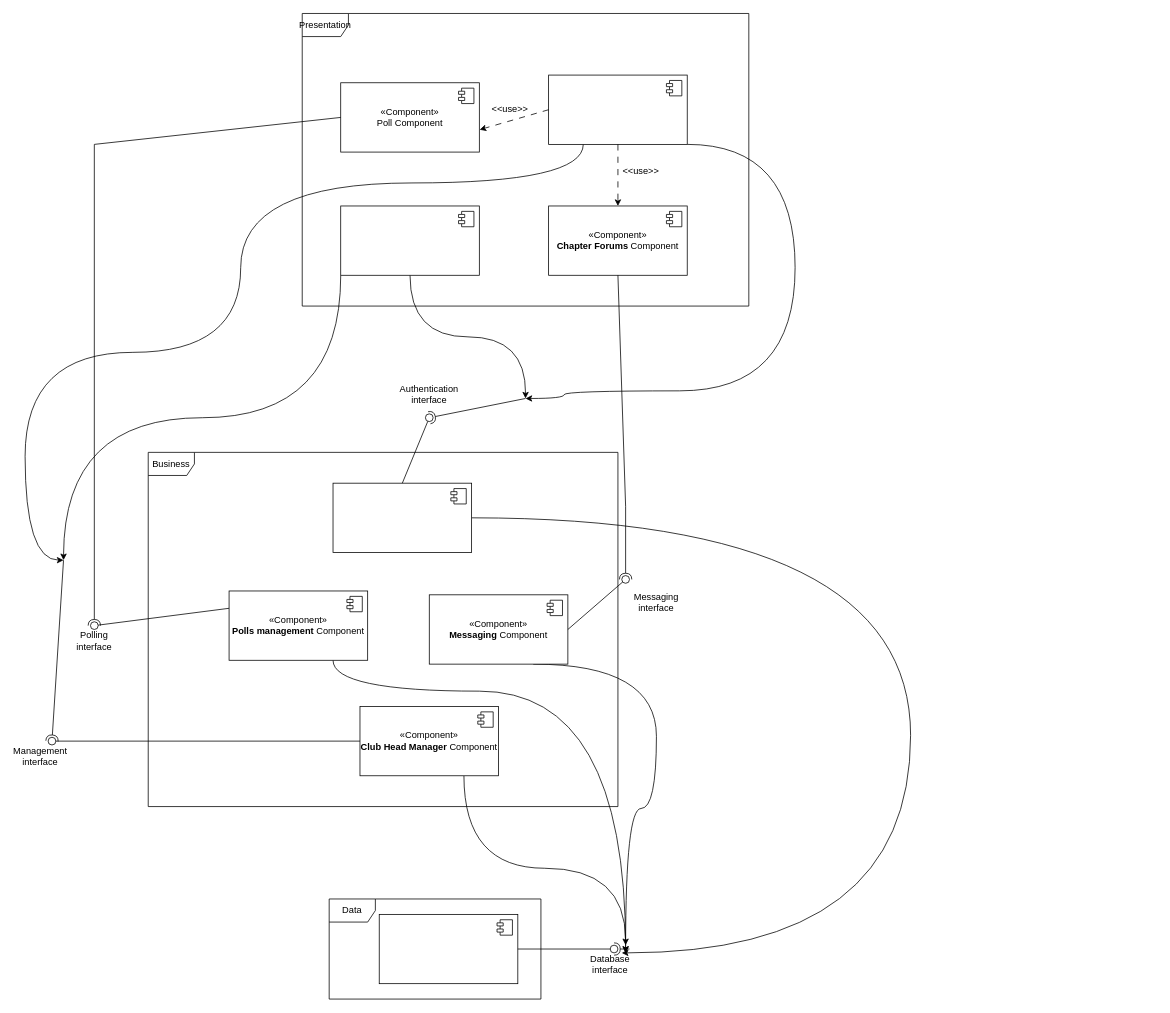
This 1170x1013 diagram has some shape labels left out. The centre of each missing label's shape, as x and y in pixels:
"«Component» Authenticator Component" goes at point 402,517.
"«Component» Database Component" goes at point 448,949.
"«Component» Main Page Component" goes at point 617,109.
"«Component» Unique User Pages Component" goes at point 409,240.
